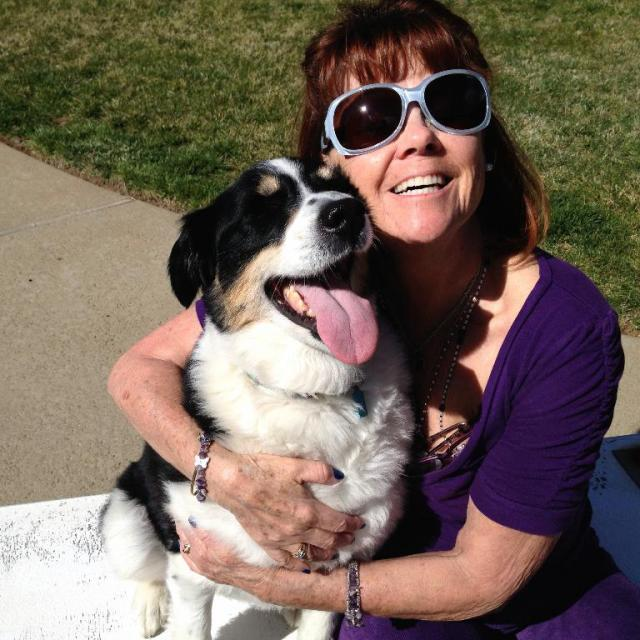Glasses: (323, 68, 495, 160)
